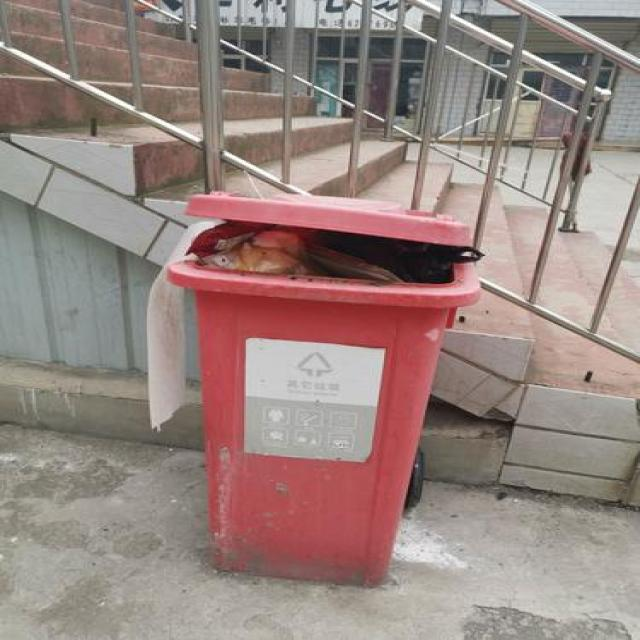overflow: (148, 190, 480, 588)
